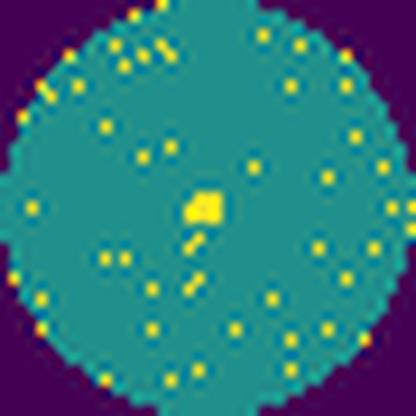Center: (181, 187, 229, 232)
